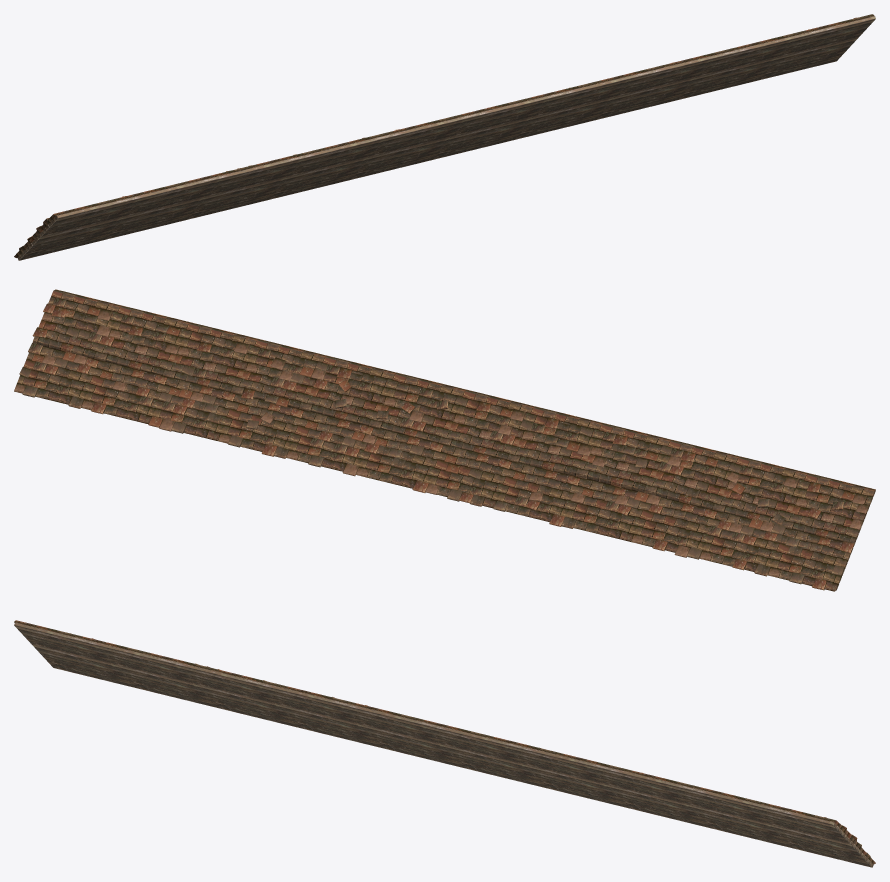
3 views of the same model, one above another, from view 1: azimuth 30°, elevation 25°; view 2: azimuth 150°, elevation 25°; view 3: azimuth 330°, elevation 25° (orthographic).
Parts seen in each view (by area): view 1: SM_DeathTemple_Roof_Dmg_02_v1_LOD0; view 2: SM_DeathTemple_Roof_Dmg_02_v1_LOD0; view 3: SM_DeathTemple_Roof_Dmg_02_v1_LOD0.
Boxes of the visible parts, left/top/right/bottom form: SM_DeathTemple_Roof_Dmg_02_v1_LOD0: left=14, top=14, right=875, bottom=260; SM_DeathTemple_Roof_Dmg_02_v1_LOD0: left=14, top=289, right=875, bottom=591; SM_DeathTemple_Roof_Dmg_02_v1_LOD0: left=14, top=620, right=875, bottom=867.
Size of the model in its own units: 48.2 by 4.11 by 4.53.
Materials: 2 (2 with a texture image).
